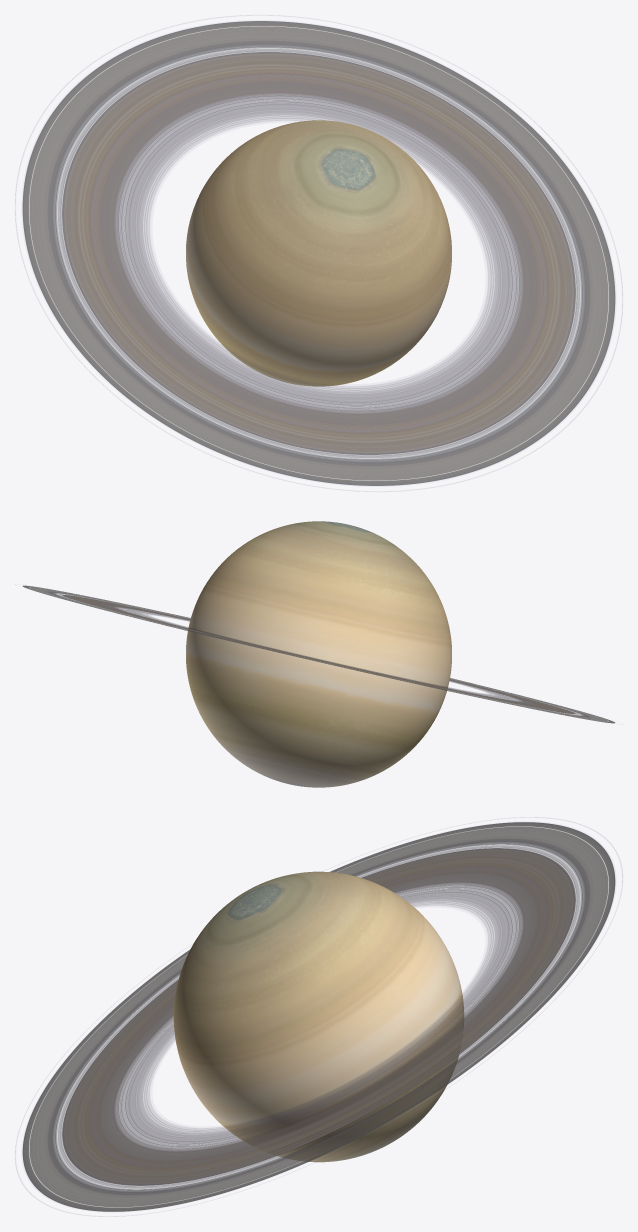
The model's file is Saturn.glb.
3 renders of one model, top to bottom at view 1: azimuth 30°, elevation 25°; view 2: azimuth 150°, elevation 25°; view 3: azimuth 270°, elevation 25°, orthographic. The views are drawn at different scales.
Parts seen in each view (by area): view 1: Saturn_Rings, Saturn; view 2: Saturn, Saturn_Rings; view 3: Saturn_Rings, Saturn.
Boxes of the visible parts, <box> form: Saturn_Rings: <box>22,21,615,485</box>; Saturn: <box>186,120,451,386</box>; Saturn: <box>186,521,451,787</box>; Saturn_Rings: <box>23,585,614,723</box>; Saturn_Rings: <box>22,822,615,1211</box>; Saturn: <box>173,871,464,1162</box>.
Bounding box in the file's own units: 4.7 × 2.11 × 4.2.
Materials: 2 (2 with a texture image).
